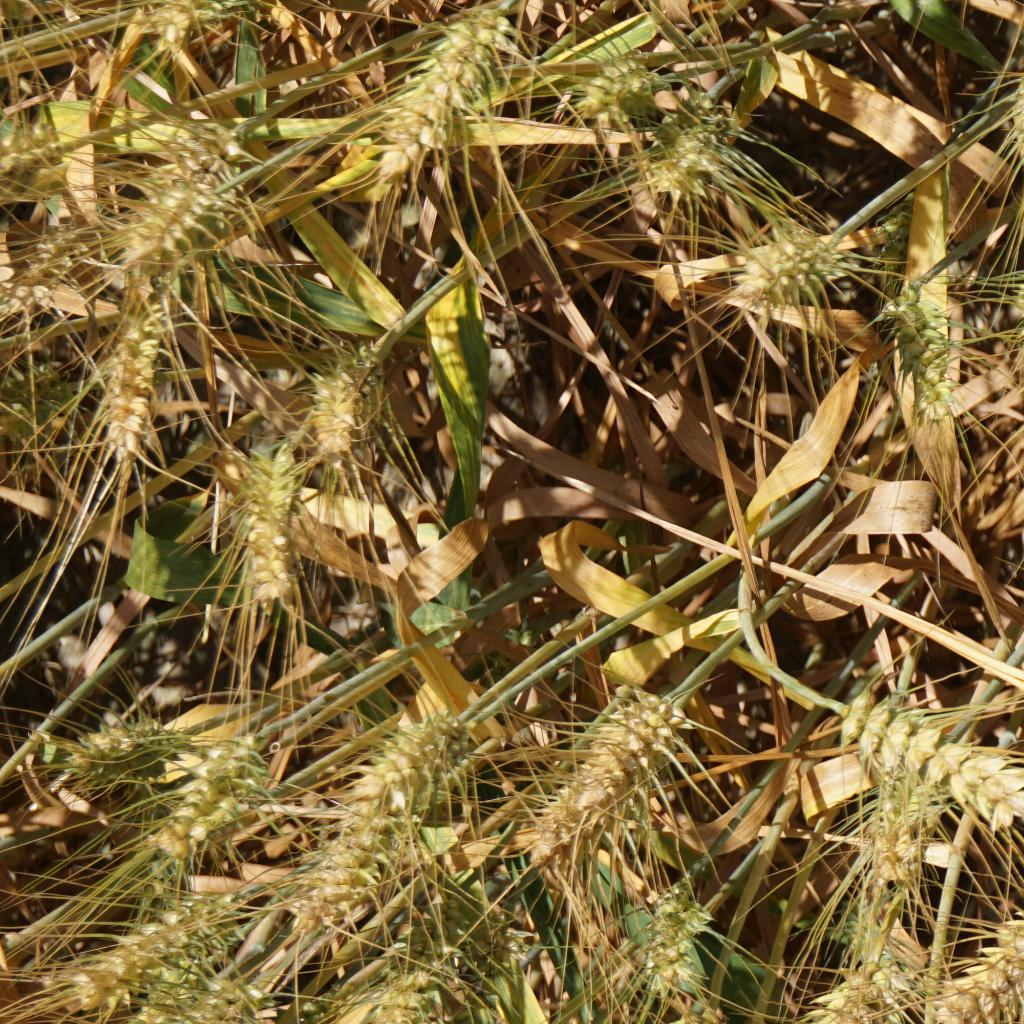0-0: (521, 662, 689, 875), (819, 672, 1024, 832), (369, 0, 528, 199), (228, 420, 318, 612), (150, 730, 275, 864), (887, 292, 970, 423), (953, 881, 1024, 1024), (366, 704, 463, 806), (863, 787, 940, 911), (308, 814, 390, 925), (740, 219, 841, 305), (105, 301, 163, 446), (72, 719, 190, 783), (387, 897, 447, 1016), (122, 193, 219, 260), (16, 230, 87, 319), (648, 883, 703, 993), (807, 960, 892, 1024), (57, 950, 139, 1015), (91, 911, 200, 959), (660, 126, 730, 199), (458, 904, 523, 976), (165, 124, 238, 187), (152, 925, 213, 1000), (143, 0, 235, 49), (314, 368, 358, 467), (584, 55, 659, 112), (652, 87, 722, 143), (864, 192, 913, 269), (169, 979, 259, 1020), (0, 139, 56, 199), (1001, 41, 1024, 181), (1004, 247, 1024, 356), (1, 0, 67, 15)
